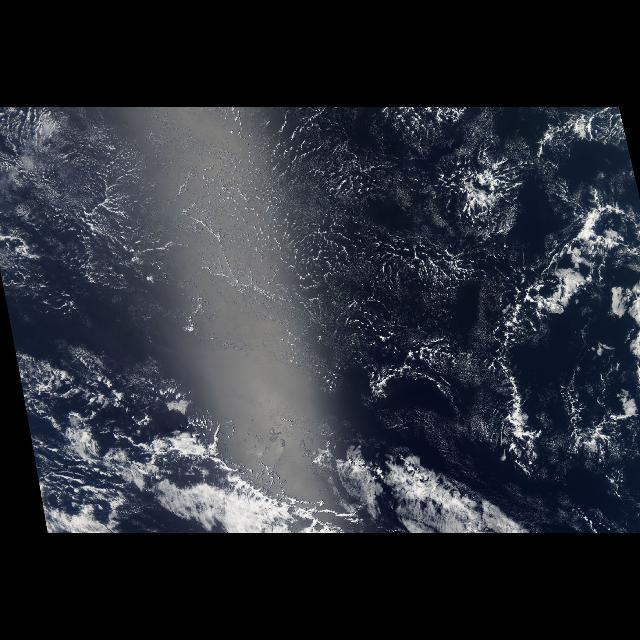Fish: (499, 266, 555, 482)
Gravel: (0, 107, 594, 489)
Sugar: (4, 108, 502, 354)
